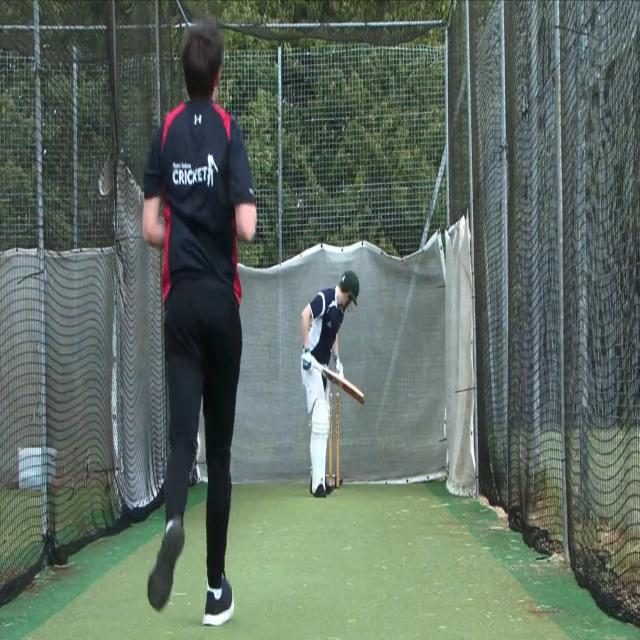batsman: (299, 268, 366, 502)
